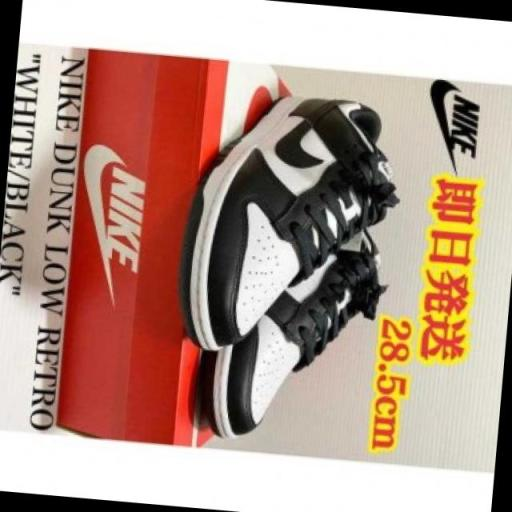Nike: (72, 142, 119, 278), (104, 165, 146, 272)
